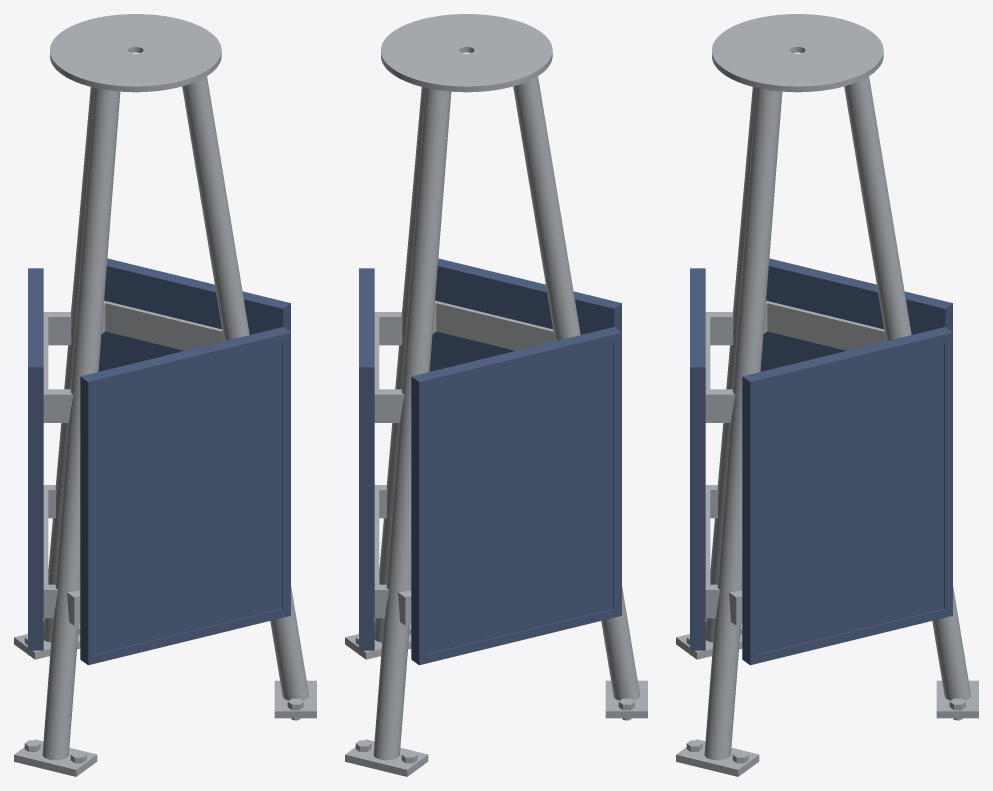
File: step_05.glb
3 renders of one model, left to right at view 1: azimuth 30°, elevation 25°; view 2: azimuth 150°, elevation 25°; view 3: azimuth 270°, elevation 25°, orthographic.
Parts seen in each view (by area): view 1: part__solar panel 1, part__tripod leg 2, part__mast top plate, part__tripod leg 3, part__solar panel 2, part__solar panel 3, part__tripod leg 1, part__upper panel bracket 2, part__upper panel bracket 3, part__lower panel bracket 3; view 2: part__solar panel 3, part__tripod leg 1, part__mast top plate, part__tripod leg 2, part__solar panel 1, part__solar panel 2, part__tripod leg 3, part__upper panel bracket 1, part__upper panel bracket 2, part__lower panel bracket 2; view 3: part__solar panel 2, part__tripod leg 3, part__mast top plate, part__tripod leg 1, part__solar panel 3, part__solar panel 1, part__tripod leg 2, part__upper panel bracket 3, part__upper panel bracket 1, part__lower panel bracket 1.
Part boxes in pixels (x1=…): part__solar panel 1: x1=80, y1=327, x2=290, y2=665; part__tripod leg 2: x1=14, y1=88, x2=120, y2=776; part__mast top plate: x1=50, y1=14, x2=221, y2=92; part__tripod leg 3: x1=182, y1=76, x2=316, y2=718; part__solar panel 2: x1=98, y1=258, x2=290, y2=371; part__solar panel 3: x1=28, y1=268, x2=43, y2=650; part__tripod leg 1: x1=14, y1=87, x2=94, y2=659; part__upper panel bracket 2: x1=101, y1=300, x2=223, y2=350; part__upper panel bracket 3: x1=43, y1=312, x2=73, y2=422; part__lower panel bracket 3: x1=43, y1=485, x2=58, y2=618; part__solar panel 3: x1=411, y1=327, x2=621, y2=665; part__tripod leg 1: x1=345, y1=88, x2=451, y2=776; part__mast top plate: x1=381, y1=14, x2=552, y2=92; part__tripod leg 2: x1=513, y1=76, x2=647, y2=718; part__solar panel 1: x1=429, y1=258, x2=621, y2=371; part__solar panel 2: x1=359, y1=268, x2=374, y2=650; part__tripod leg 3: x1=345, y1=87, x2=425, y2=659; part__upper panel bracket 1: x1=432, y1=300, x2=554, y2=350; part__upper panel bracket 2: x1=374, y1=312, x2=404, y2=422; part__lower panel bracket 2: x1=374, y1=485, x2=389, y2=618; part__solar panel 2: x1=742, y1=327, x2=952, y2=665; part__tripod leg 3: x1=676, y1=88, x2=782, y2=776; part__mast top plate: x1=712, y1=14, x2=883, y2=92; part__tripod leg 1: x1=844, y1=76, x2=978, y2=718; part__solar panel 3: x1=760, y1=258, x2=952, y2=371; part__solar panel 1: x1=690, y1=268, x2=705, y2=650; part__tripod leg 2: x1=676, y1=87, x2=756, y2=659; part__upper panel bracket 3: x1=763, y1=300, x2=885, y2=350; part__upper panel bracket 1: x1=705, y1=312, x2=735, y2=422; part__lower panel bracket 1: x1=705, y1=485, x2=720, y2=618.
Bounding box in the file's own units: 448 × 928 × 388.
